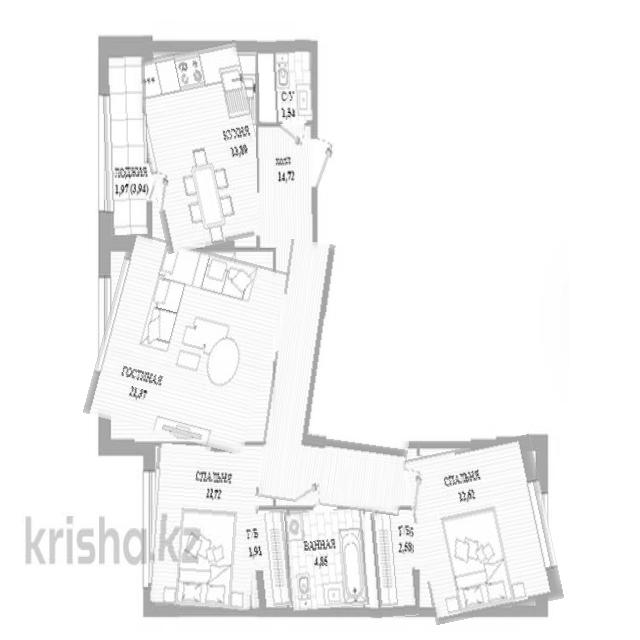balcony: (100, 48, 149, 235)
bathroom: (286, 508, 368, 610), (258, 36, 314, 126)
hallway: (255, 240, 407, 515), (256, 123, 316, 248)
kitchen: (136, 44, 266, 250)
living_room: (93, 240, 280, 446), (409, 440, 556, 620), (149, 444, 260, 612)
other: (365, 511, 417, 619), (246, 512, 290, 609)
